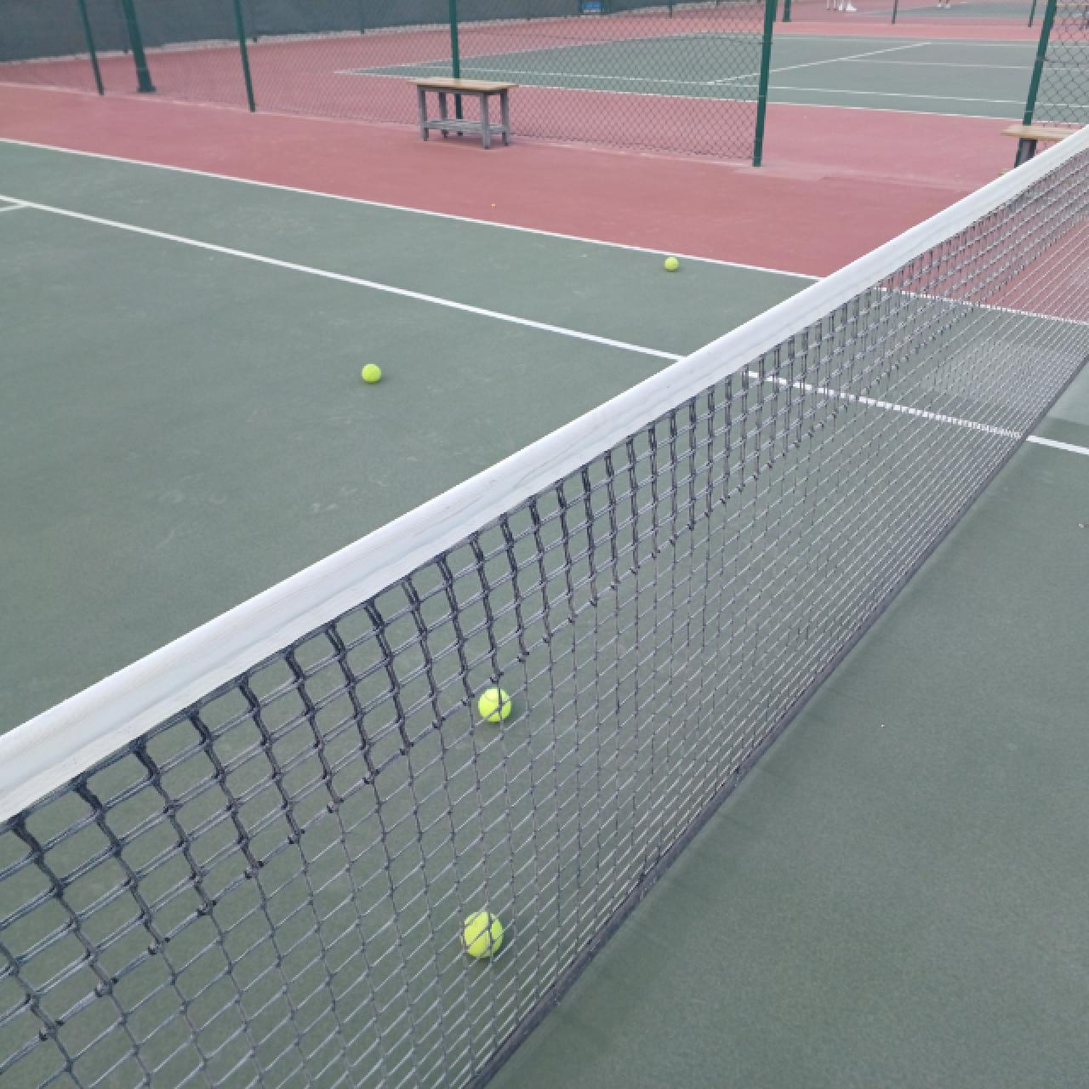tennis-ball: (458, 909, 505, 959), (478, 686, 513, 723), (360, 361, 382, 385), (664, 256, 679, 271)
